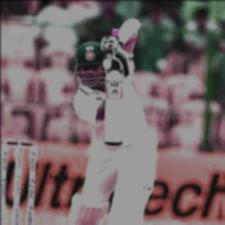batsman: (50, 0, 187, 224)
